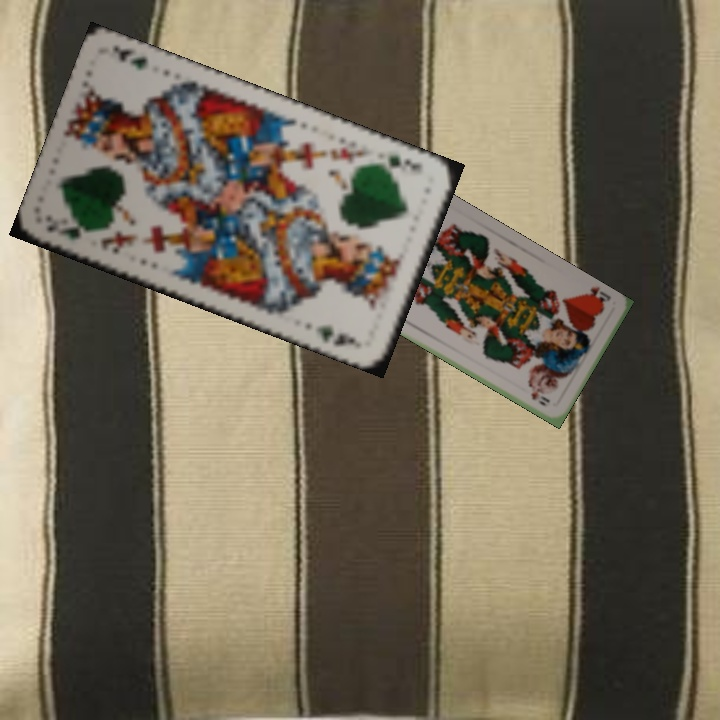GK: (41, 212, 96, 243), (373, 151, 425, 174)
HO: (579, 283, 613, 310)
